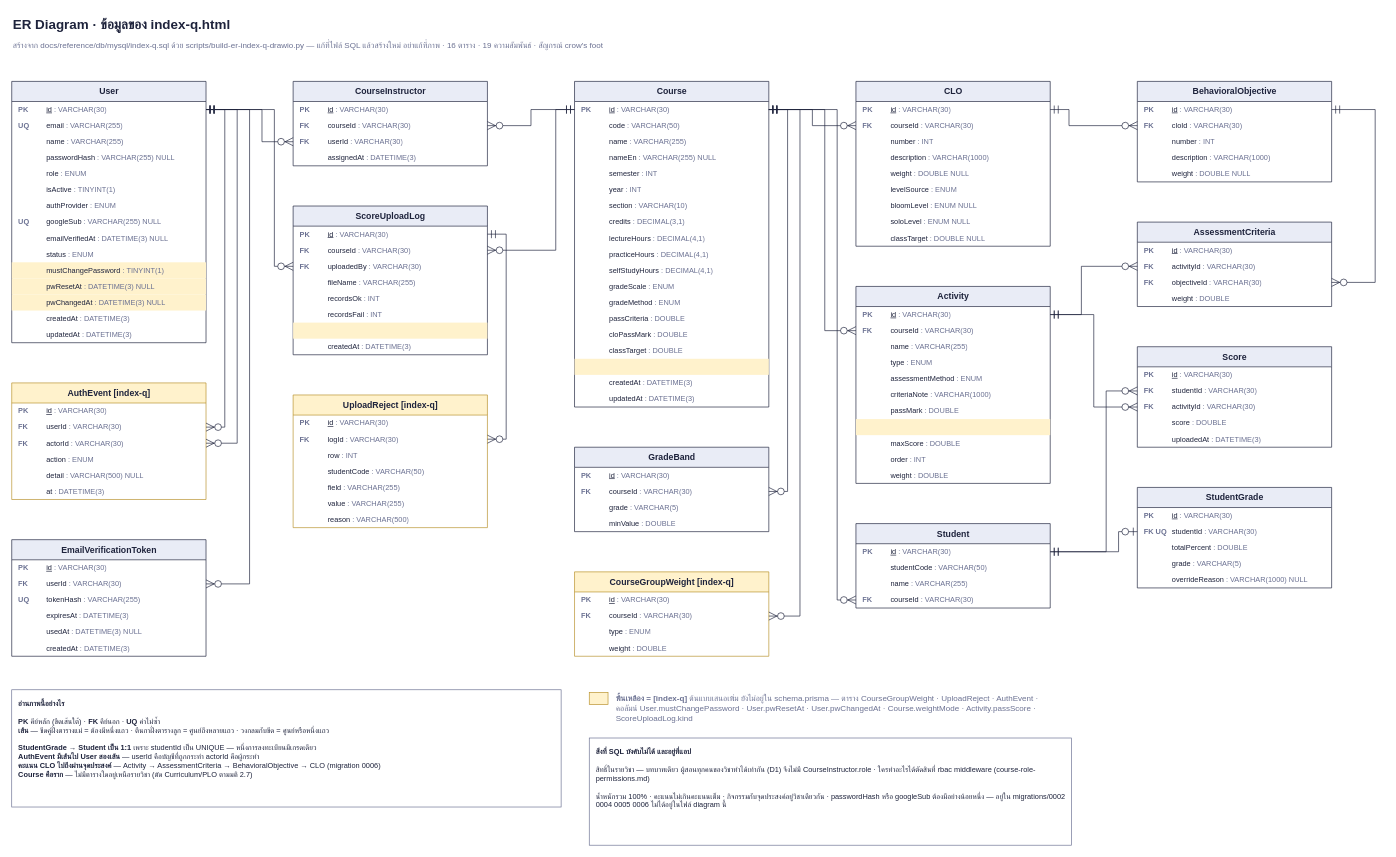
Some shapes in this 1396 by 857 pixel diagram are drawn without their labels. Each missing label, with the centre of its shape:
"kind : ENUM" belongs at point (390, 330).
"passScore : DOUBLE NULL" belongs at point (953, 427).
"weightMode : ENUM" belongs at point (671, 366).
